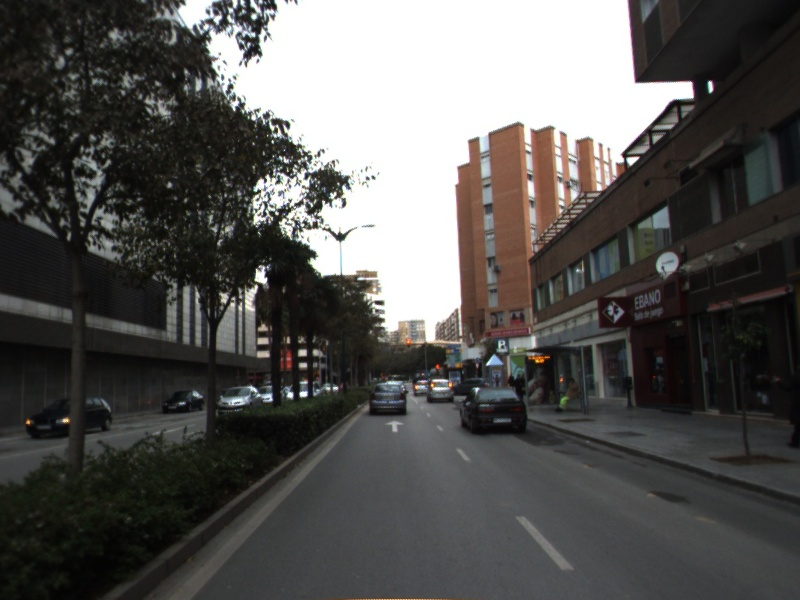STRAIGHT: (383, 418, 406, 434)
